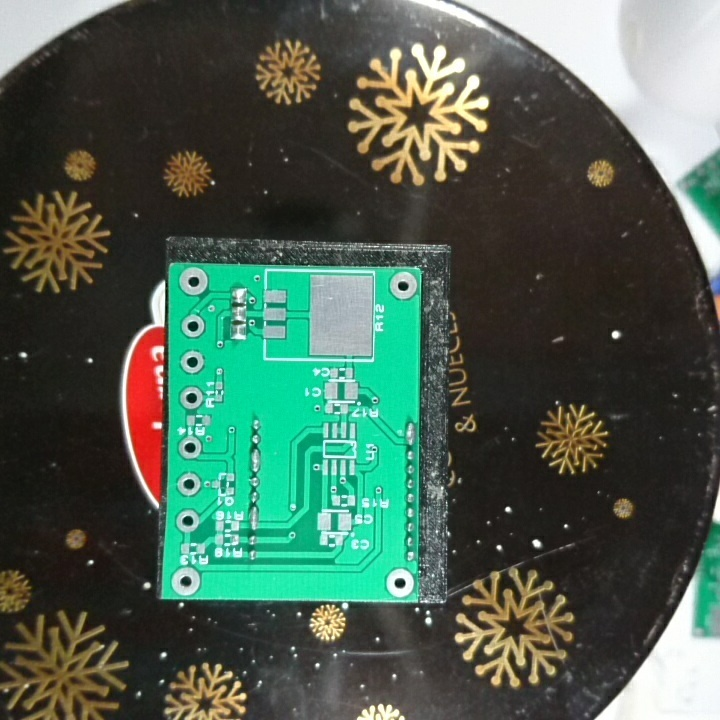F: (382, 567, 417, 598), (388, 269, 419, 302), (177, 266, 210, 297), (169, 566, 202, 597), (177, 432, 204, 462), (177, 383, 205, 411), (173, 506, 200, 535), (178, 348, 206, 375), (176, 469, 202, 498), (180, 312, 205, 339)
P: (246, 446, 263, 475), (246, 504, 262, 532), (403, 420, 417, 450)
